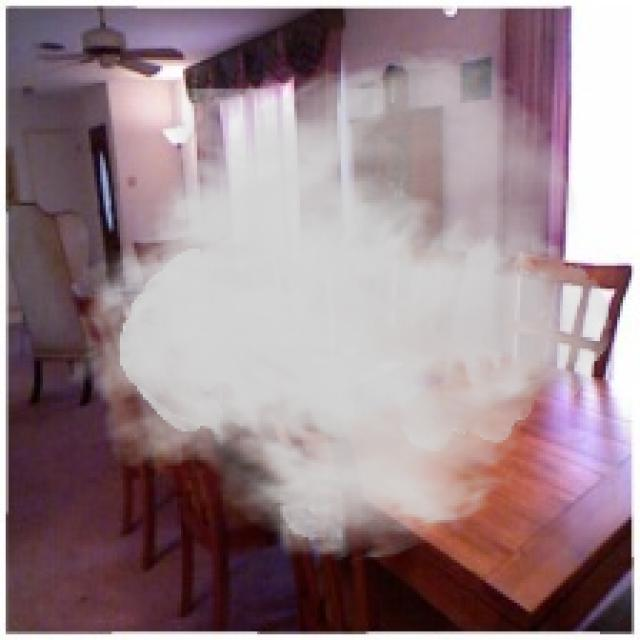smoke: (63, 43, 611, 566)
